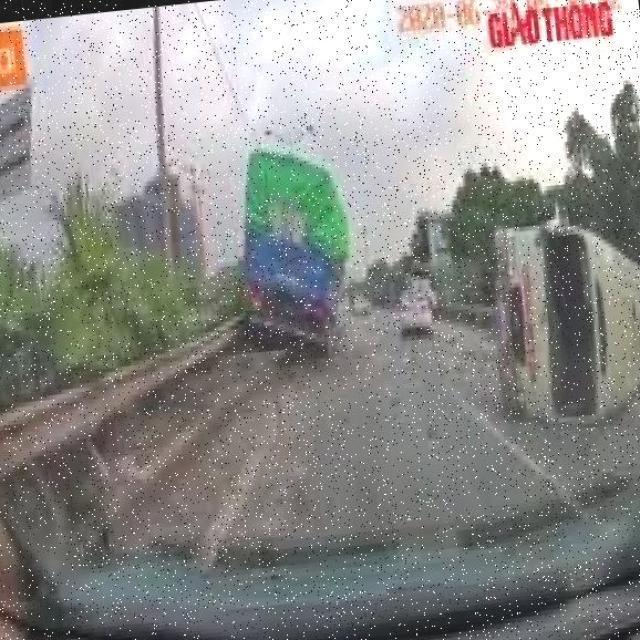accident: (471, 159, 640, 450)
